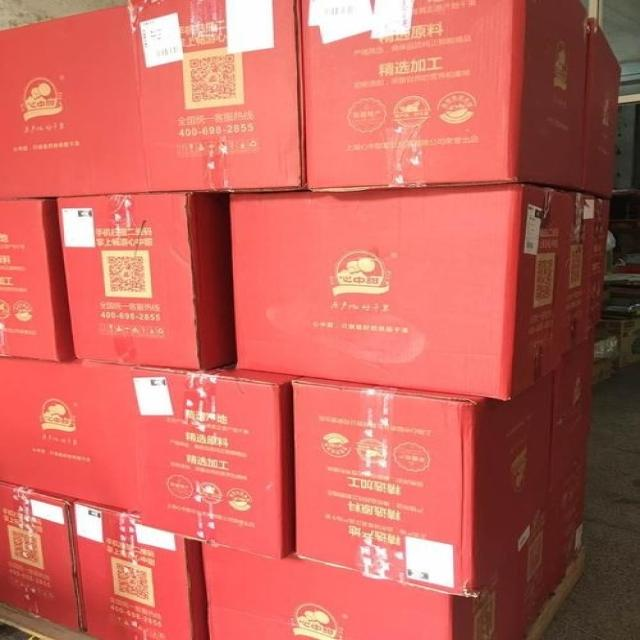box: (227, 184, 567, 401), (289, 371, 550, 599), (298, 0, 588, 192), (127, 0, 306, 192), (133, 363, 301, 561), (201, 542, 525, 640), (56, 192, 234, 370), (1, 5, 147, 200), (0, 356, 141, 510), (68, 497, 209, 640), (0, 482, 84, 633), (0, 200, 74, 363), (579, 17, 622, 199), (517, 493, 568, 639), (552, 335, 594, 495), (562, 191, 596, 368), (549, 457, 585, 600), (590, 198, 613, 330)
